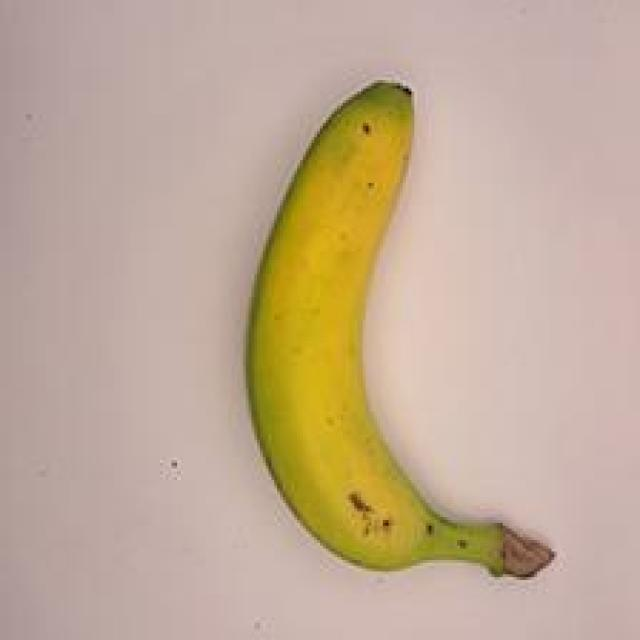unripe: (162, 41, 571, 593)
